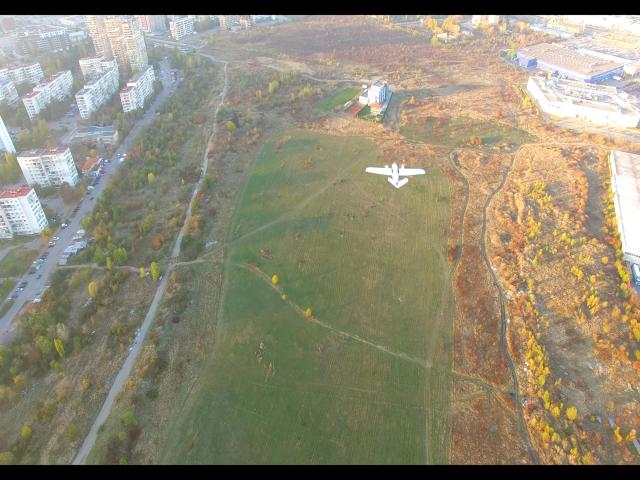plane: (365, 161, 424, 188)
